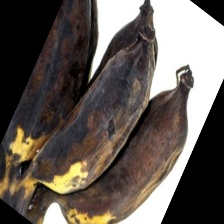banana: (17, 53, 183, 209)
